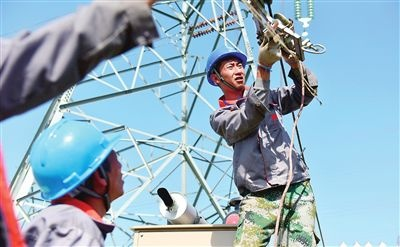blue: (28, 117, 130, 211), (204, 48, 246, 91)
